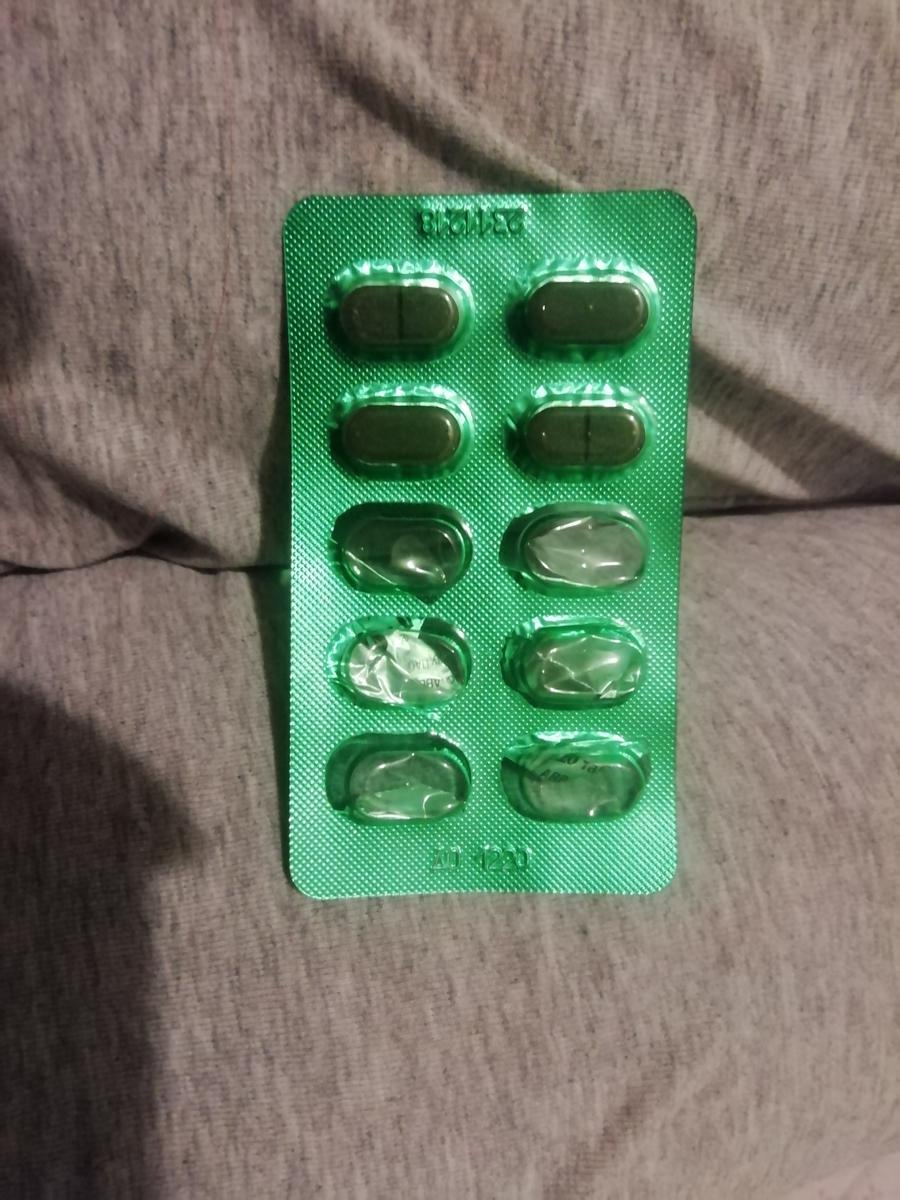tablet: (328, 267, 475, 364), (512, 265, 659, 362), (324, 380, 471, 477), (507, 386, 654, 483)
